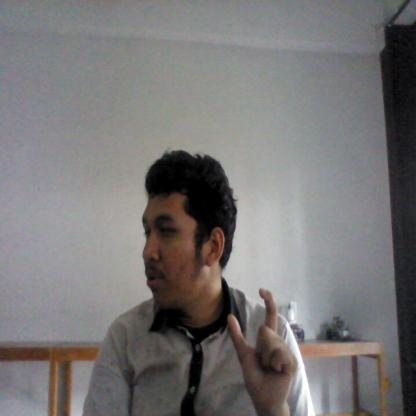U: (226, 287, 301, 414)
